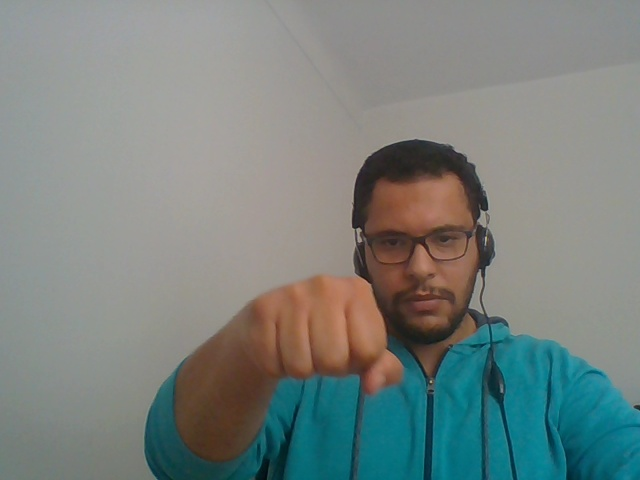yes: (215, 231, 399, 455)
